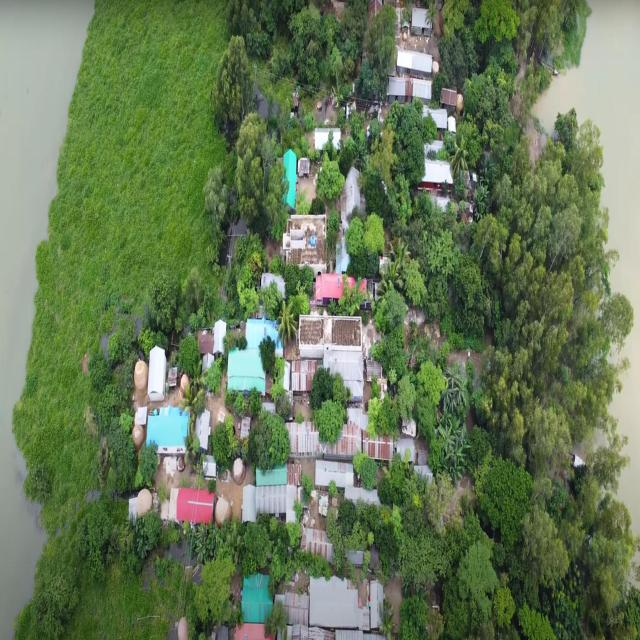flood: (0, 0, 93, 638), (539, 0, 640, 533), (226, 218, 247, 265), (253, 86, 269, 139), (240, 120, 246, 135), (256, 156, 261, 170)
house: (300, 314, 364, 399), (242, 464, 304, 532), (308, 572, 370, 632), (284, 213, 327, 273), (146, 408, 192, 459), (227, 347, 268, 399), (239, 570, 275, 626), (168, 484, 215, 525), (314, 274, 369, 308), (386, 72, 434, 106), (246, 317, 284, 357), (316, 458, 356, 492), (147, 342, 168, 403), (396, 44, 436, 76), (282, 146, 298, 211), (418, 160, 452, 190), (345, 164, 362, 222), (313, 125, 342, 157), (420, 106, 450, 132), (411, 8, 433, 38), (438, 85, 459, 108)
